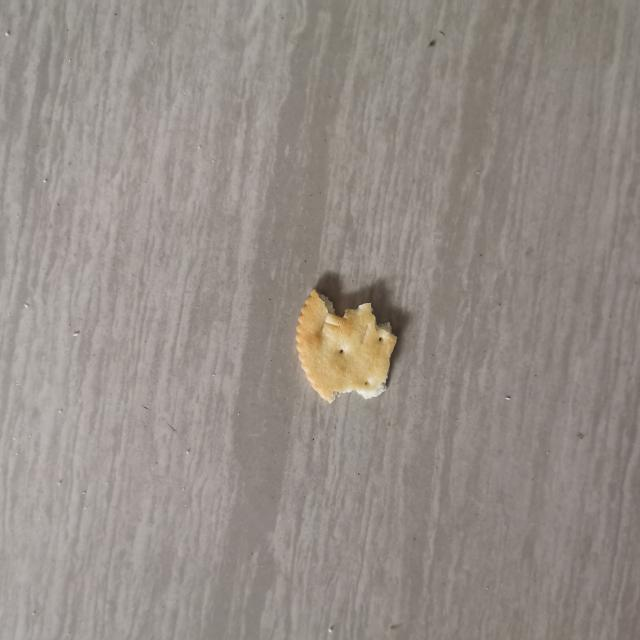Broken: (294, 288, 398, 404)
